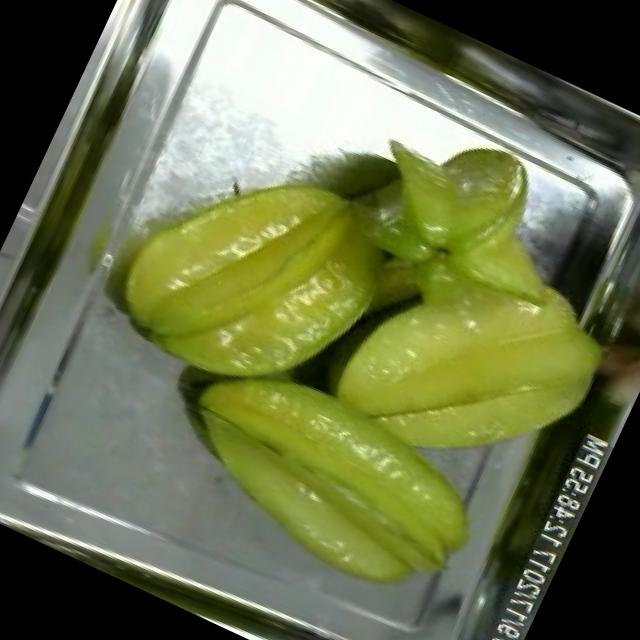fruit: (135, 318, 518, 634), (82, 111, 424, 447), (305, 183, 640, 525), (332, 94, 566, 316)
